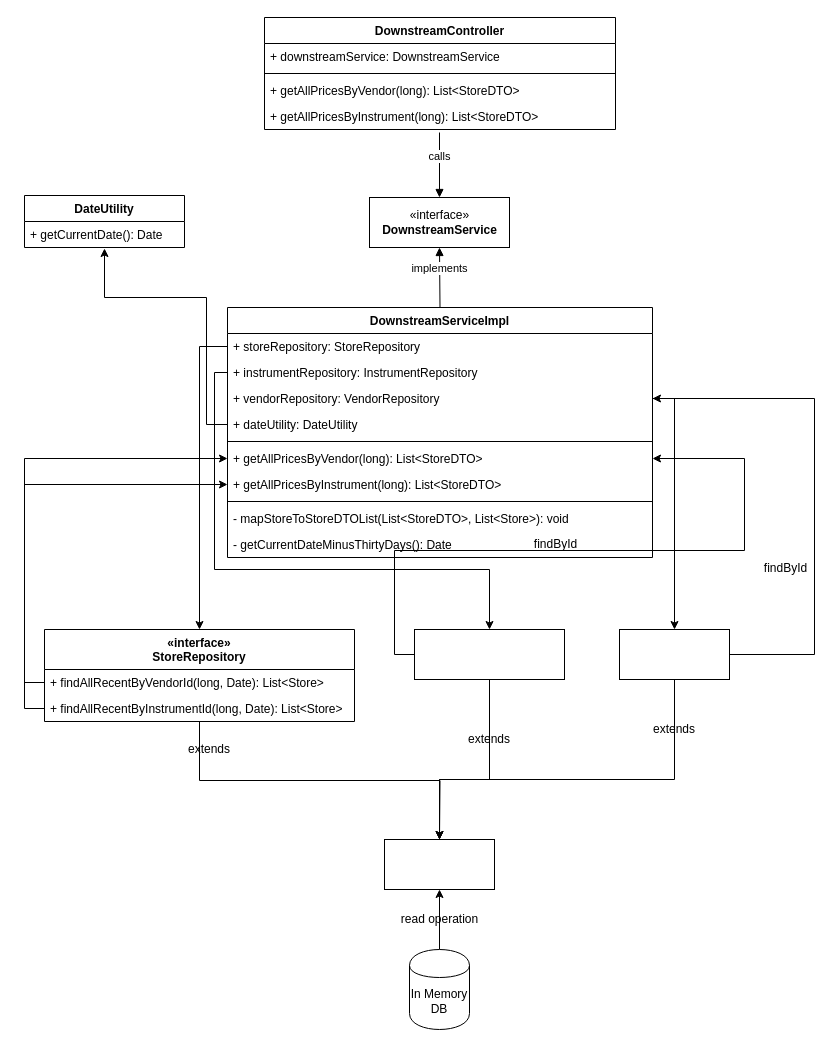
Image size: 840x1047. Some labels were removed from this diagram. Here are the shapes that lost their labels. From the top down, the centre of each, then its label:
At (x=489, y=654): "«interface» InstrumentRepository".
At (x=674, y=654): "«interface» VendorRepository".
At (x=439, y=864): "«interface» JpaRepository".
